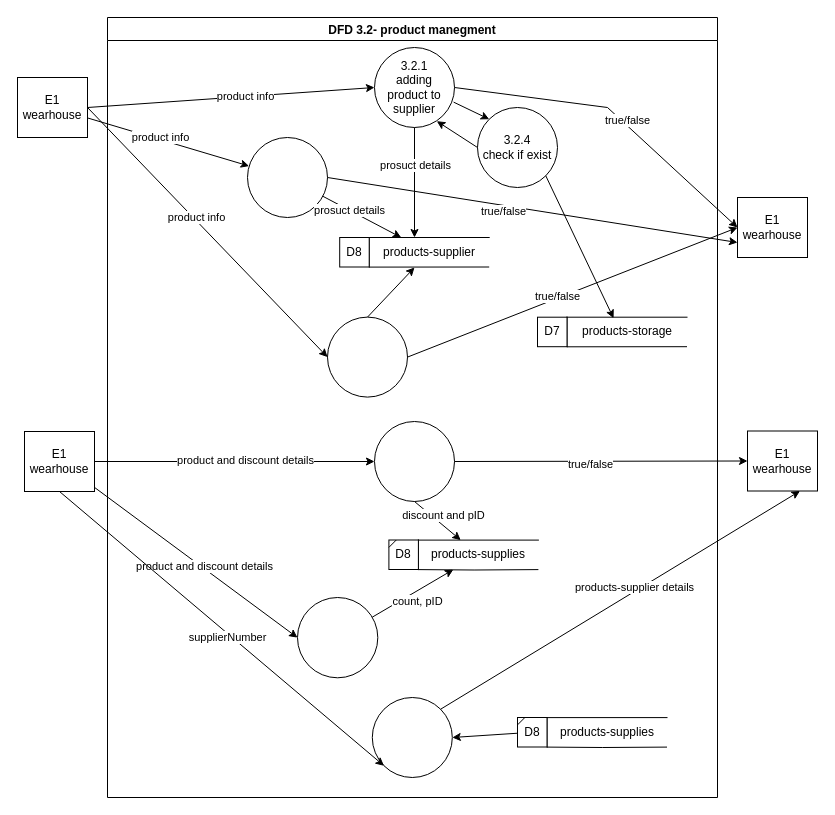
The diagram is 835 pixels wide and 815 high, and some of its shapes have lost their labels. Each missing label, with the box of its shape:
3.2.2 remove prosuct from supplier: (326, 316, 408, 397)
3.2.3 add discount-product to supplier: (374, 420, 454, 502)
3.2.5 watch all supplier products: (371, 696, 452, 778)
3.2.6 update product: (246, 136, 328, 218)
3.2.7 remove discount-product to supplier: (296, 596, 378, 678)
